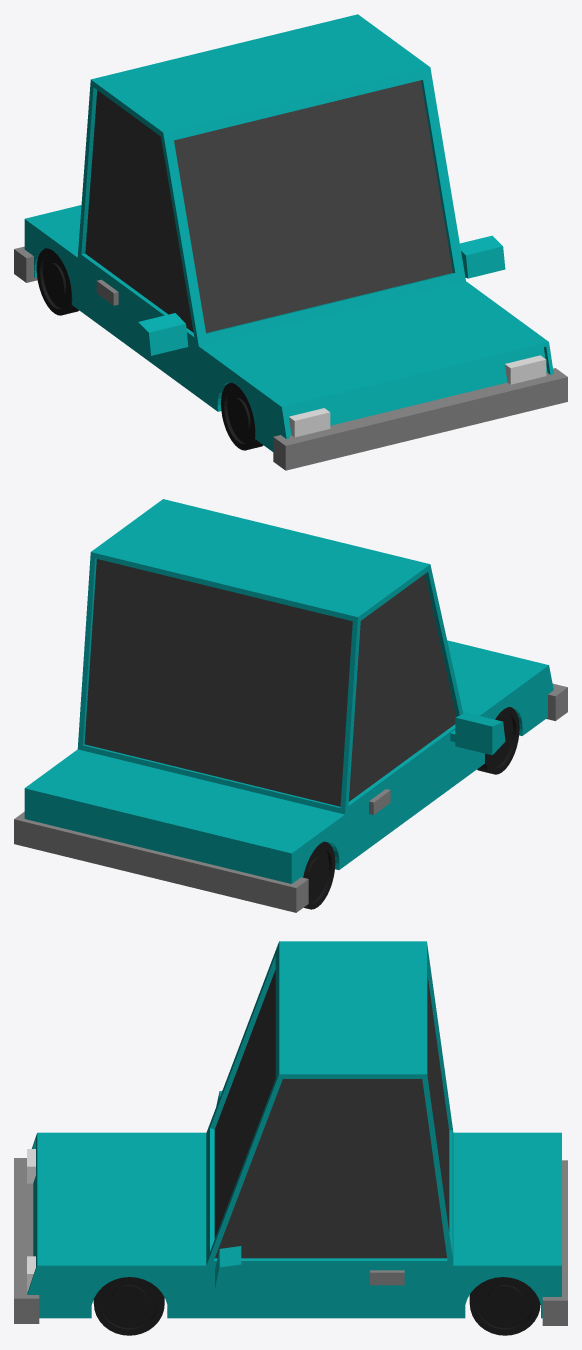
Rendered from car02.fbx.
3 views of the same model, one above another, from view 1: azimuth 30°, elevation 25°; view 2: azimuth 150°, elevation 25°; view 3: azimuth 270°, elevation 25° (orthographic).
Visible parts, largest first — view 1: CarBody, FrontBumper, Wheel, Cube, Cube.001, BackBumper; view 2: CarBody, BackBumper, Wheel, Cube, FrontBumper; view 3: CarBody, Wheel, FrontBumper, BackBumper, Cube, CarMirrors, Cube.001.
Boxes of the visible parts, box(x1,y1,x2,y2) form: CarBody: box(24, 14, 553, 451); FrontBumper: box(273, 368, 567, 470); Wheel: box(36, 248, 263, 450); Cube: box(138, 235, 505, 355); Cube.001: box(288, 355, 546, 437); BackBumper: box(14, 246, 37, 282); CarBody: box(24, 499, 553, 883); BackBumper: box(14, 811, 308, 912); Wheel: box(303, 707, 519, 909); Cube: box(450, 712, 505, 755); FrontBumper: box(546, 683, 567, 720); CarBody: box(27, 941, 561, 1318); Wheel: box(93, 1277, 540, 1335); FrontBumper: box(14, 1158, 39, 1323); BackBumper: box(542, 1160, 567, 1325); Cube: box(215, 1091, 241, 1293); CarMirrors: box(370, 1270, 404, 1285); Cube.001: box(27, 1149, 35, 1290).
Size of the model in its own units: 518 by 366 by 688.
